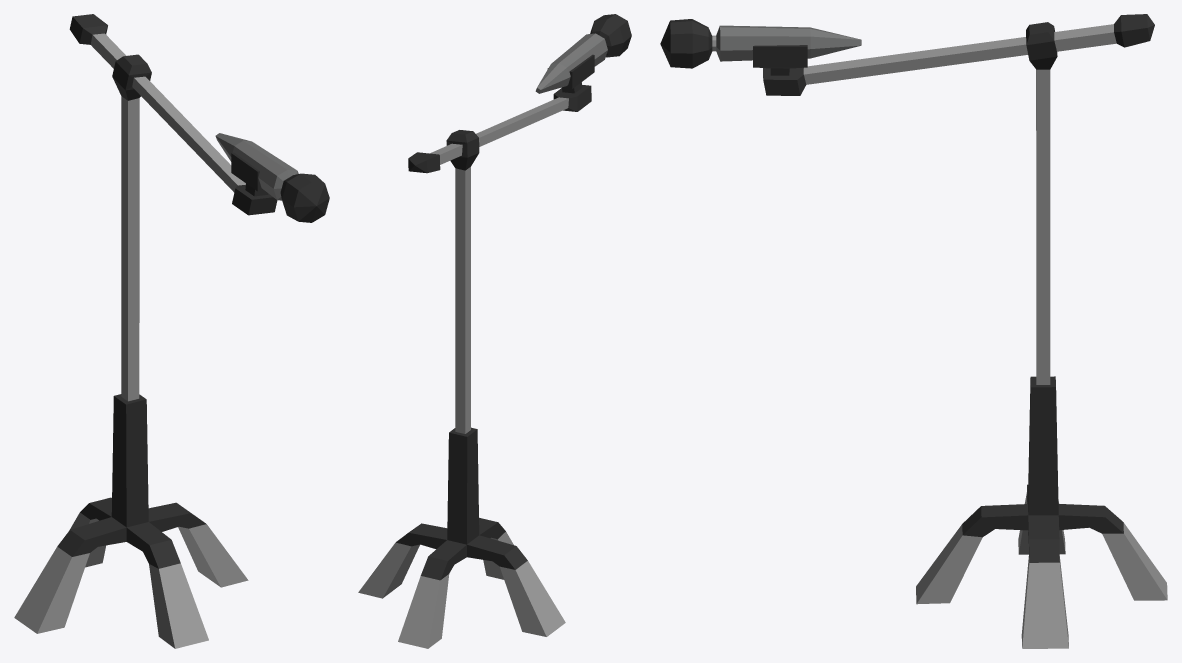
Rendered from Micro.fbx.
3 views of the same model, side by side, from view 1: azimuth 30°, elevation 25°; view 2: azimuth 150°, elevation 25°; view 3: azimuth 270°, elevation 25° (orthographic). The views are drawn at different scales.
Parts seen in each view (by area): view 1: Micro; view 2: Micro; view 3: Micro.
Boxes of the visible parts, left/top/right/bottom form: Micro: left=14, top=14, right=329, bottom=648; Micro: left=358, top=14, right=631, bottom=648; Micro: left=660, top=14, right=1167, bottom=648.
Size of the model in its own units: 88.86 by 218 by 174.
